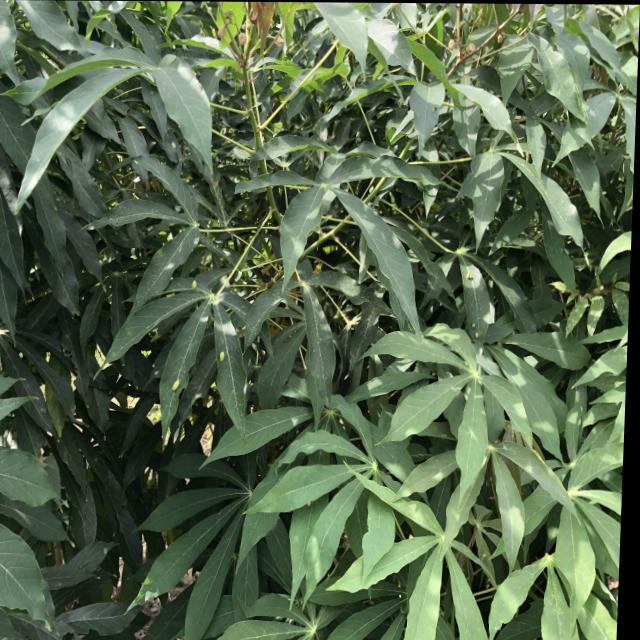Mosca: (472, 314, 482, 345), (473, 546, 491, 563), (168, 378, 185, 394), (462, 270, 477, 288), (300, 497, 317, 511), (217, 347, 231, 363), (188, 276, 201, 289)
